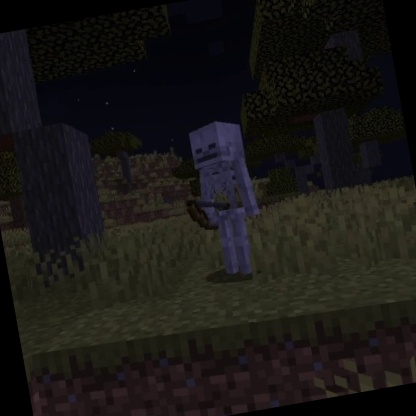skeleton: (169, 112, 276, 288)
